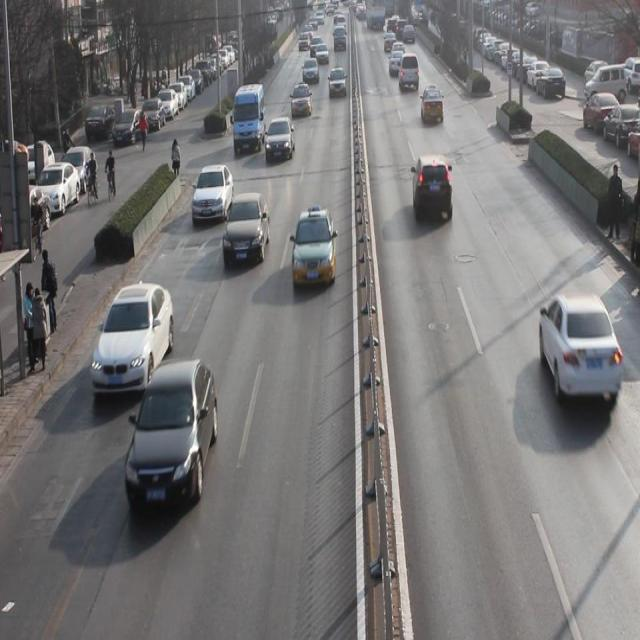car: (126, 361, 218, 517), (537, 294, 618, 408), (92, 285, 175, 395), (292, 210, 338, 292), (224, 194, 270, 270), (412, 155, 454, 227), (190, 164, 234, 224), (265, 118, 296, 164), (290, 81, 313, 120), (422, 84, 444, 122), (328, 67, 347, 99), (302, 56, 319, 87)
truck: (233, 82, 266, 155), (399, 52, 420, 90)
